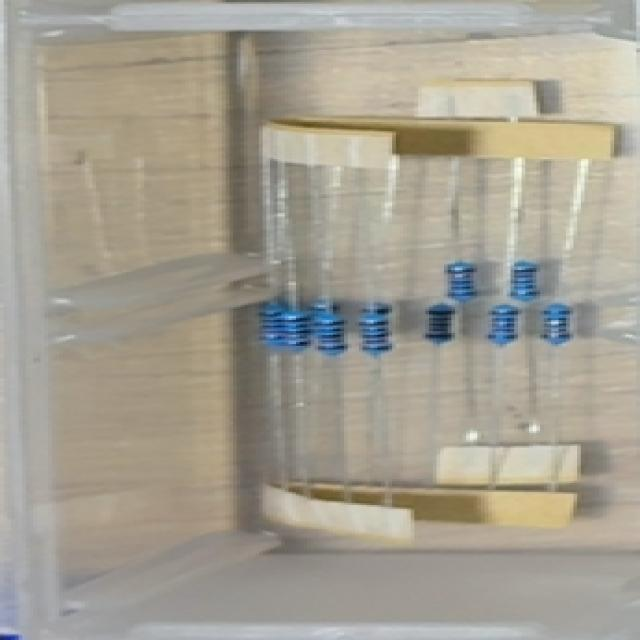Resistor: (362, 302, 394, 352), (309, 301, 341, 345), (508, 262, 542, 303), (421, 304, 453, 346), (444, 260, 475, 302), (317, 316, 349, 356), (282, 311, 314, 351), (261, 305, 292, 346), (489, 304, 519, 346), (542, 302, 572, 343)
